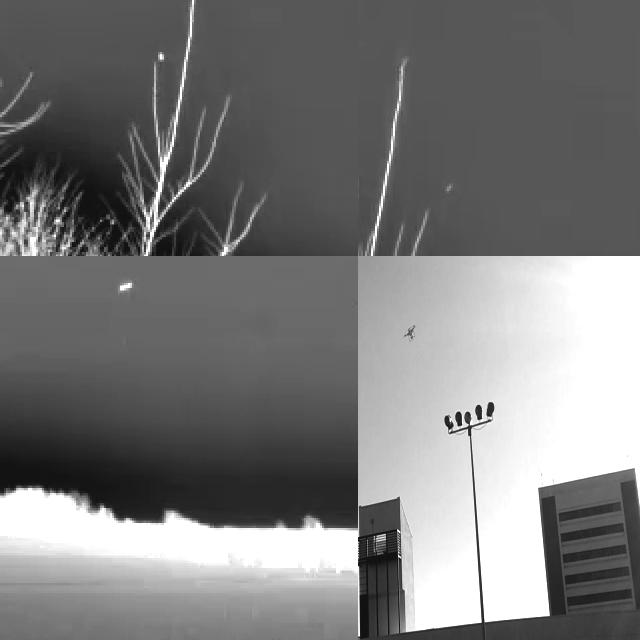0: (439, 174, 461, 204), (152, 46, 174, 68)
1: (109, 276, 141, 306)
drone: (401, 318, 419, 348)
